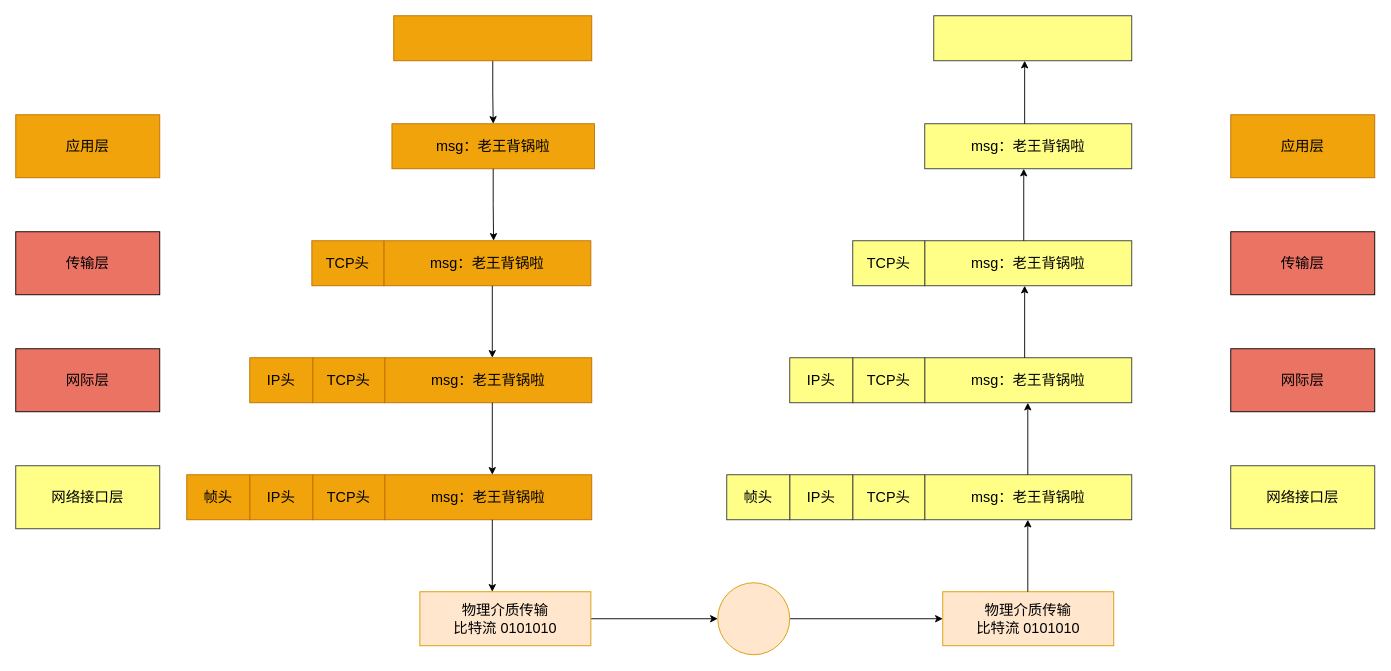
Image size: 1391x671. Some labels were removed from this diagram. Here are the shapes that lost their labels. From the top down, the centre of each, then its label:
pixel 492 38: 发送发应用程序
pixel 1032 38: 接收方应用程序
pixel 753 618: 路由器
